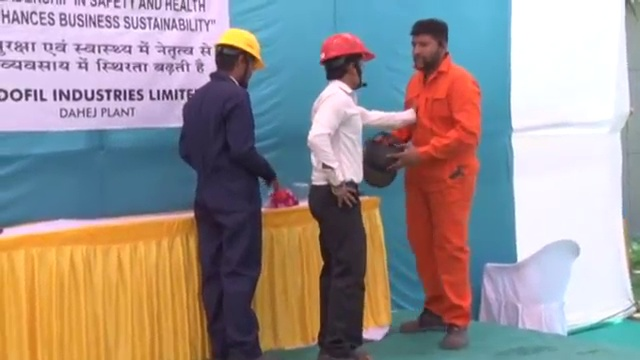helmet: (212, 24, 265, 72), (315, 30, 376, 62)
helmet_off: (410, 19, 449, 70)
helmet_on: (314, 30, 376, 89), (212, 25, 264, 90)
person: (368, 19, 483, 350), (308, 30, 423, 360), (178, 22, 285, 360)
